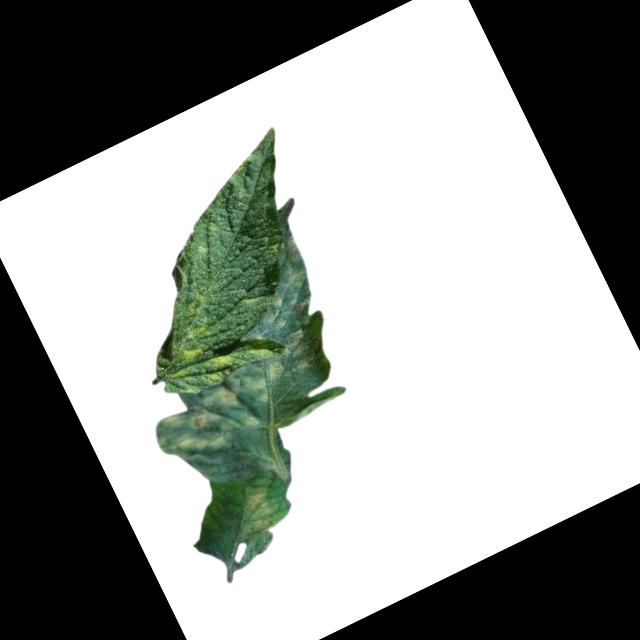Leaf_Mold: (138, 327, 335, 471), (133, 291, 238, 396), (221, 479, 282, 541)
